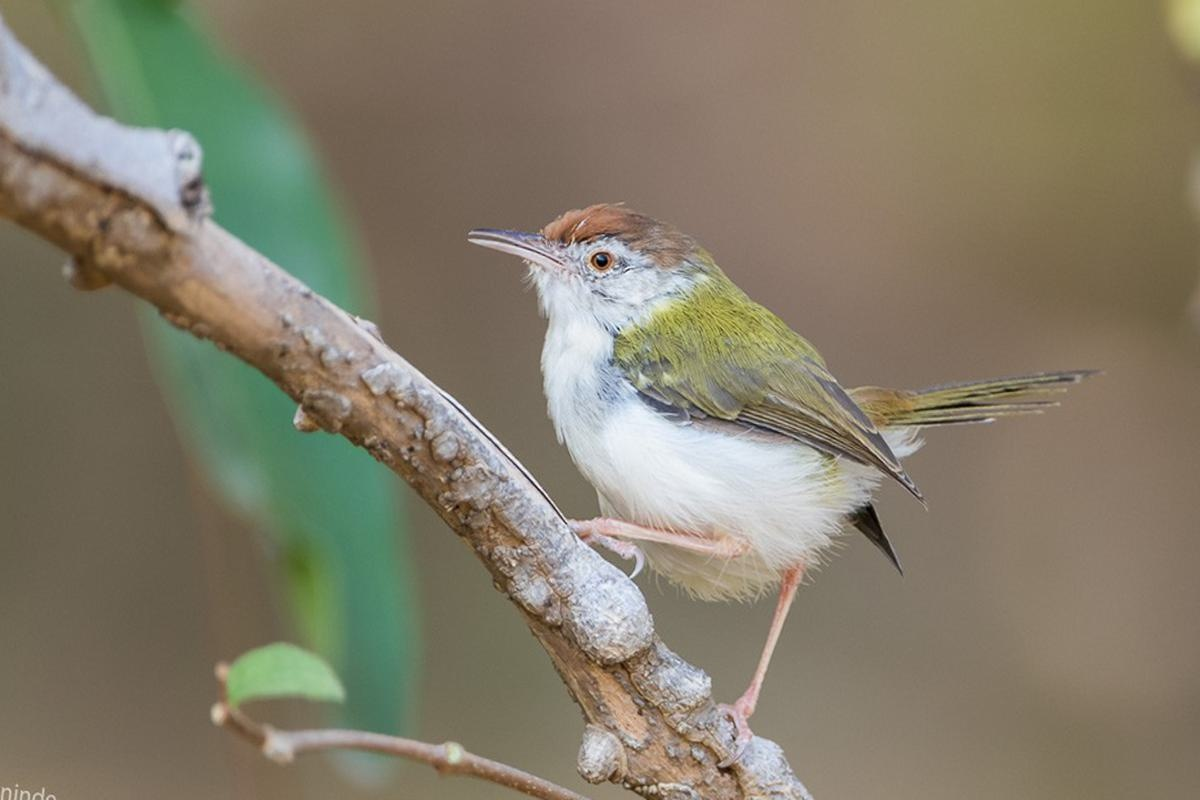tailorbird: (460, 161, 1011, 691)
